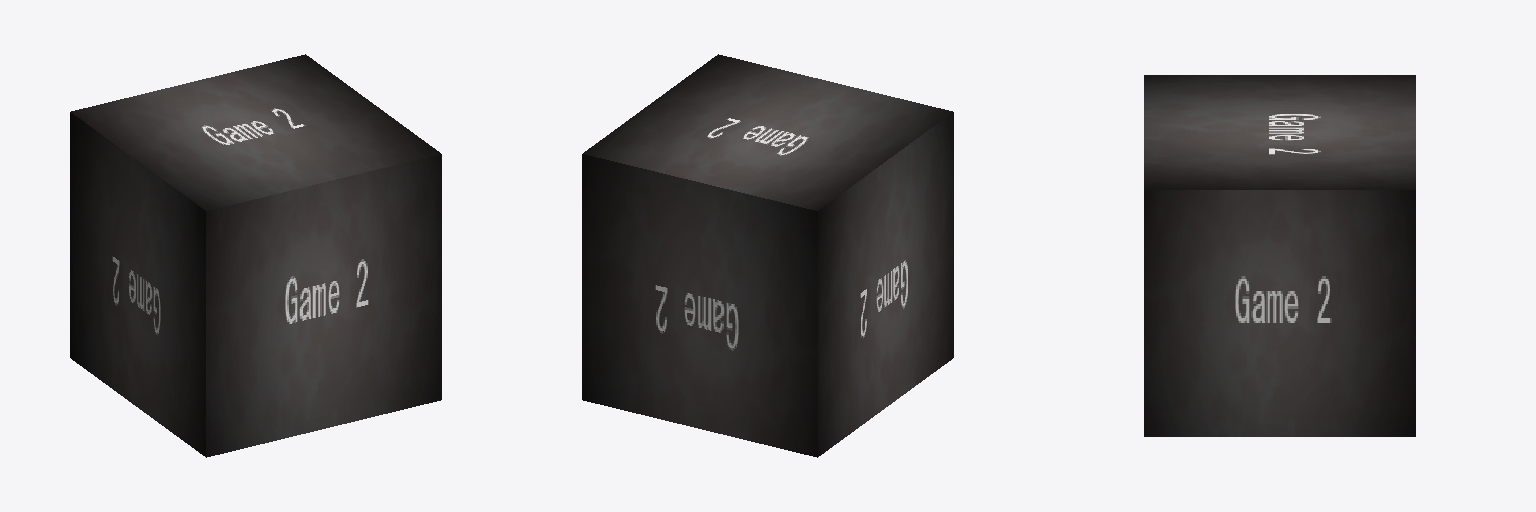
The picture shows the model from 3 angles: view 1: azimuth 30°, elevation 25°; view 2: azimuth 150°, elevation 25°; view 3: azimuth 270°, elevation 25°; orthographic projection.
Visible parts, largest first — view 1: Cube; view 2: Cube; view 3: Cube.
Boxes of the visible parts, box(x1,y1,x2,y2) form: Cube: box(70, 54, 441, 457); Cube: box(582, 54, 953, 457); Cube: box(1144, 75, 1415, 436).
Size of the model in its own units: 2 by 2 by 2.
1 materials, 1 textured.